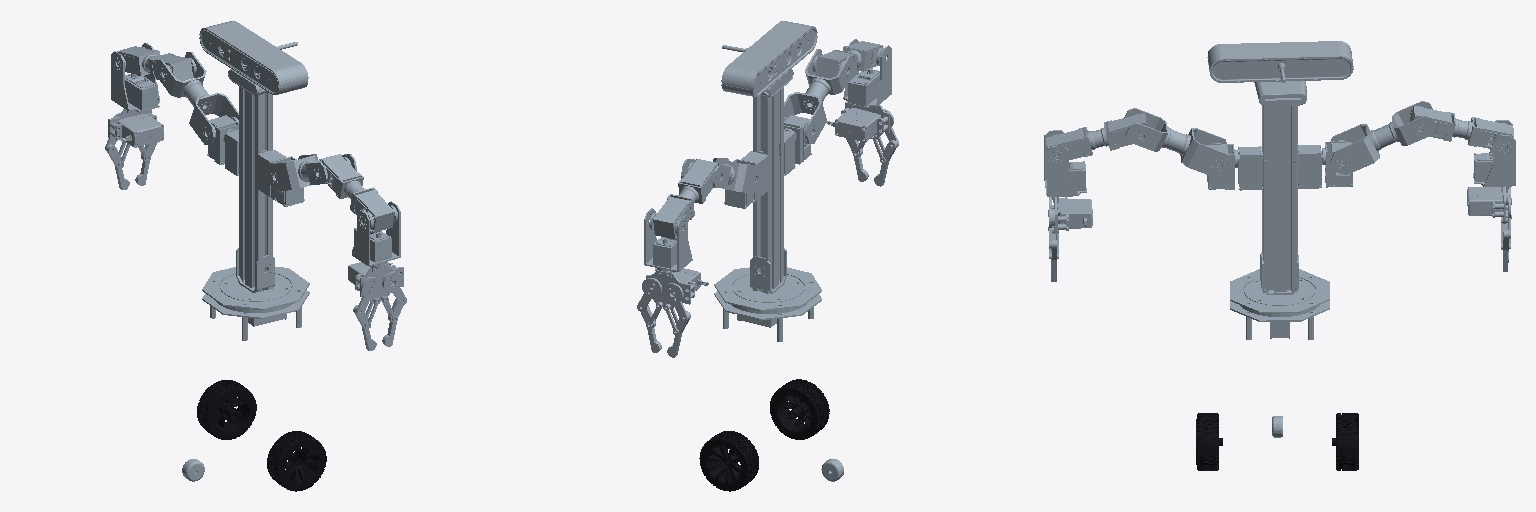
URDF robot description (robowheels):
<?xml version='1.0' encoding='utf-8'?>
<robot name="robowheels">
  <link name="base_footprint" />
  <joint name="base_footprint_joint" type="fixed">
    <parent link="base_footprint" />
    <child link="base_link" />
    <origin xyz="0 0 0.0332" />
  </joint>
  <link name="base_link">
    <visual>
      <geometry>
        <mesh filename="package://robowheels_description/meshes/base_link.stl" />
      </geometry>
      <material name="base_link_material">
        <color rgba="0.65 0.7 0.75 1" />
      </material>
    </visual>
    <inertial>
      <origin xyz="-0.0318259535 3.65871519e-05 0.0604680357" />
      <mass value="1.8" />
      <inertia ixx="0.00996234786066134" iyy="0.010731749977905014" izz="0.011715397882756337" ixy="0" ixz="0" iyz="0" />
    </inertial>
    <collision name="base_link_collision">
      <origin xyz="-0.0318259535 3.65871519e-05 0.0604680357" />
      <geometry>
        <box size="0.204 0.191014797 0.173" />
      </geometry>
    </collision>
  </link>
  <link name="mast_link">
    <visual>
      <geometry>
        <mesh filename="package://robowheels_description/meshes/mast_link.stl" />
      </geometry>
      <material name="mast_link_material">
        <color rgba="0.65 0.7 0.75 1" />
      </material>
    </visual>
    <inertial>
      <origin xyz="0 0 0" />
      <mass value="0.15" />
      <inertia ixx="0.0008022936571966947" iyy="0.0007874616086122587" izz="2.7255265808507982e-05" ixy="0" ixz="0" iyz="0" />
    </inertial>
    <collision name="mast_link_collision">
      <origin xyz="0 0 0" />
      <geometry>
        <box size="0.0222918974 0.041030386 0.25" />
      </geometry>
    </collision>
  </link>
  <joint name="mast_joint" type="fixed">
    <parent link="base_link" />
    <child link="mast_link" />
    <origin xyz="-0.00625268749 0.00269514236 0.315288035" />
  </joint>
  <link name="arm_mount_link">
    <visual>
      <geometry>
        <mesh filename="package://robowheels_description/meshes/arm_mount_link.stl" />
      </geometry>
      <material name="arm_mount_link_material">
        <color rgba="0.65 0.7 0.75 1" />
      </material>
    </visual>
    <inertial>
      <origin xyz="0 0 0" />
      <mass value="0.3" />
      <inertia ixx="0.000551753377151742" iyy="0.0005517533771518032" izz="0.0006540599493033816" ixy="0" ixz="0" iyz="0" />
    </inertial>
    <collision name="arm_mount_link_collision">
      <origin xyz="0 0 0" />
      <geometry>
        <box size="0.114373069 0.114373069 0.09481" />
      </geometry>
    </collision>
  </link>
  <joint name="arm_mount_joint" type="fixed">
    <parent link="base_link" />
    <child link="arm_mount_link" />
    <origin xyz="-0.00637300074 0.0023598377 0.186523035" />
  </joint>
  <link name="astra_link">
    <visual>
      <geometry>
        <mesh filename="package://robowheels_description/meshes/astra_link.stl" />
      </geometry>
      <material name="astra_link_material">
        <color rgba="0.65 0.7 0.75 1" />
      </material>
    </visual>
    <inertial>
      <origin xyz="0 0 0" />
      <mass value="0.3" />
      <inertia ixx="0.0007600693162909078" iyy="0.0002396586653657222" izz="0.000873908195797151" ixy="0" ixz="0" iyz="0" />
    </inertial>
    <collision name="astra_link_collision">
      <origin xyz="0 0 0" />
      <geometry>
        <box size="0.0840830001 0.166992146 0.0501636892" />
      </geometry>
    </collision>
  </link>
  <joint name="astra_joint" type="fixed">
    <parent link="base_link" />
    <child link="astra_link" />
    <origin xyz="0.00857200063 0.00332180294 0.46536978" />
  </joint>
  <link name="left_wheel_link">
    <visual>
      <geometry>
        <mesh filename="package://robowheels_description/meshes/left_wheel_link.stl" />
      </geometry>
      <material name="left_wheel_link_material">
        <color rgba="0.12 0.12 0.14 1" />
      </material>
    </visual>
    <inertial>
      <origin xyz="-3.6370024e-10 -0.000586149315 1.99372303e-10" />
      <mass value="0.08" />
      <inertia ixx="3.5456330816517186e-05" iyy="5.871981289641652e-05" izz="3.545633081652129e-05" ixy="0" ixz="0" iyz="0" />
    </inertial>
    <collision name="left_wheel_link_collision">
      <origin rpy="1.5707963267948966 0 0" />
      <geometry>
        <cylinder radius="0.0332" length="0.026" />
      </geometry>
    </collision>
  </link>
  <joint name="left_wheel_joint" type="continuous">
    <parent link="base_link" />
    <child link="left_wheel_link" />
    <origin xyz="0 0.0781561955 0" />
    <axis xyz="0 1 0" />
    <limit effort="2" velocity="20" />
    <dynamics damping="0.01" friction="0" />
  </joint>
  <link name="right_wheel_link">
    <visual>
      <geometry>
        <mesh filename="package://robowheels_description/meshes/right_wheel_link.stl" />
      </geometry>
      <material name="right_wheel_link_material">
        <color rgba="0.12 0.12 0.14 1" />
      </material>
    </visual>
    <inertial>
      <origin xyz="2.94291862e-10 0.000586141681 2.00216441e-10" />
      <mass value="0.08" />
      <inertia ixx="3.545633081652782e-05" iyy="5.8719812896417204e-05" izz="3.545633081652472e-05" ixy="0" ixz="0" iyz="0" />
    </inertial>
    <collision name="right_wheel_link_collision">
      <origin rpy="1.5707963267948966 0 0" />
      <geometry>
        <cylinder radius="0.0332" length="0.026" />
      </geometry>
    </collision>
  </link>
  <joint name="right_wheel_joint" type="continuous">
    <parent link="base_link" />
    <child link="right_wheel_link" />
    <origin xyz="0 -0.0781561955 0" />
    <axis xyz="0 1 0" />
    <limit effort="2" velocity="20" />
    <dynamics damping="0.01" friction="0" />
  </joint>
  <link name="caster_link">
    <visual>
      <geometry>
        <mesh filename="package://robowheels_description/meshes/caster_link.stl" />
      </geometry>
      <material name="caster_link_material">
        <color rgba="0.65 0.7 0.75 1" />
      </material>
    </visual>
    <inertial>
      <origin xyz="0 0 0" />
      <mass value="0.03" />
      <inertia ixx="1.9850315052214744e-06" iyy="3.125050003812256e-06" izz="1.985031508830174e-06" ixy="0" ixz="0" iyz="0" />
    </inertial>
    <collision name="caster_link_collision">
      <origin xyz="0 0 0.00183196408" />
      <geometry>
        <sphere radius="0.0125" />
      </geometry>
    </collision>
  </link>
  <joint name="caster_joint" type="fixed">
    <parent link="base_link" />
    <child link="caster_link" />
    <origin xyz="-0.0896517601 0.00013640945 -0.0225319641" />
  </joint>
  <ros2_control name="RoboWheelsVirtualHardware" type="system">
    <hardware>
      <plugin>mock_components/GenericSystem</plugin>
    </hardware>
    <joint name="right_shoulder_roll">
      <command_interface name="position">
        <param name="min">-0.65</param>
        <param name="max">0.65</param>
      </command_interface>
      <state_interface name="position">
        <param name="initial_value">0.0</param>
      </state_interface>
      <state_interface name="velocity" />
    </joint>
    <joint name="right_shoulder_pitch">
      <command_interface name="position">
        <param name="min">-0.65</param>
        <param name="max">0.65</param>
      </command_interface>
      <state_interface name="position">
        <param name="initial_value">0.0</param>
      </state_interface>
      <state_interface name="velocity" />
    </joint>
    <joint name="right_elbow_pitch">
      <command_interface name="position">
        <param name="min">-0.65</param>
        <param name="max">0.65</param>
      </command_interface>
      <state_interface name="position">
        <param name="initial_value">0.0</param>
      </state_interface>
      <state_interface name="velocity" />
    </joint>
    <joint name="right_wrist_pitch">
      <command_interface name="position">
        <param name="min">-0.65</param>
        <param name="max">0.65</param>
      </command_interface>
      <state_interface name="position">
        <param name="initial_value">0.0</param>
      </state_interface>
      <state_interface name="velocity" />
    </joint>
    <joint name="right_wrist_roll">
      <command_interface name="position">
        <param name="min">-0.65</param>
        <param name="max">0.65</param>
      </command_interface>
      <state_interface name="position">
        <param name="initial_value">0.0</param>
      </state_interface>
      <state_interface name="velocity" />
    </joint>
    <joint name="left_shoulder_roll">
      <command_interface name="position">
        <param name="min">-0.65</param>
        <param name="max">0.65</param>
      </command_interface>
      <state_interface name="position">
        <param name="initial_value">0.0</param>
      </state_interface>
      <state_interface name="velocity" />
    </joint>
    <joint name="left_shoulder_pitch">
      <command_interface name="position">
        <param name="min">-0.65</param>
        <param name="max">0.65</param>
      </command_interface>
      <state_interface name="position">
        <param name="initial_value">0.0</param>
      </state_interface>
      <state_interface name="velocity" />
    </joint>
    <joint name="left_elbow_pitch">
      <command_interface name="position">
        <param name="min">-0.65</param>
        <param name="max">0.65</param>
      </command_interface>
      <state_interface name="position">
        <param name="initial_value">0.0</param>
      </state_interface>
      <state_interface name="velocity" />
    </joint>
    <joint name="left_wrist_pitch">
      <command_interface name="position">
        <param name="min">-0.65</param>
        <param name="max">0.65</param>
      </command_interface>
      <state_interface name="position">
        <param name="initial_value">0.0</param>
      </state_interface>
      <state_interface name="velocity" />
    </joint>
    <joint name="left_wrist_roll">
      <command_interface name="position">
        <param name="min">-0.65</param>
        <param name="max">0.65</param>
      </command_interface>
      <state_interface name="position">
        <param name="initial_value">0.0</param>
      </state_interface>
      <state_interface name="velocity" />
    </joint>
  </ros2_control>
  <link name="shoulder_housings_link">
    <visual>
      <geometry>
        <mesh filename="package://robowheels_description/meshes/shoulder_housings_link.stl" />
      </geometry>
      <material name="arm_metal">
        <color rgba="0.65 0.7 0.75 1" />
      </material>
    </visual>
  </link>
  <joint name="shoulder_housings_joint" type="fixed">
    <parent link="base_link" />
    <child link="shoulder_housings_link" />
  </joint>
  <link name="right_shoulder_roll_link">
    <visual>
      <geometry>
        <mesh filename="package://robowheels_description/meshes/right_shoulder_roll_link.stl" />
      </geometry>
      <material name="arm_metal">
        <color rgba="0.65 0.7 0.75 1" />
      </material>
    </visual>
  </link>
  <joint name="right_shoulder_roll" type="revolute">
    <parent link="base_link" />
    <child link="right_shoulder_roll_link" />
    <origin xyz="-0.00404527099 -0.0303939237 0.355318694" />
    <axis xyz="0.061201029 -0.99812546 3.37191261e-16" />
    <limit lower="-0.65" upper="0.65" effort="1" velocity="0.5" />
  </joint>
  <link name="right_shoulder_pitch_link">
    <visual>
      <geometry>
        <mesh filename="package://robowheels_description/meshes/right_shoulder_pitch_link.stl" />
      </geometry>
      <material name="arm_metal">
        <color rgba="0.65 0.7 0.75 1" />
      </material>
    </visual>
  </link>
  <joint name="right_shoulder_pitch" type="revolute">
    <parent link="right_shoulder_roll_link" />
    <child link="right_shoulder_pitch_link" />
    <origin xyz="0.000573966997 -0.0378486861 0.00215" />
    <axis xyz="0.99812546 0.061201029 1.0501851e-15" />
    <limit lower="-0.65" upper="0.65" effort="1" velocity="0.5" />
  </joint>
  <link name="right_elbow_pitch_link">
    <visual>
      <geometry>
        <mesh filename="package://robowheels_description/meshes/right_elbow_pitch_link.stl" />
      </geometry>
      <material name="arm_metal">
        <color rgba="0.65 0.7 0.75 1" />
      </material>
    </visual>
  </link>
  <joint name="right_elbow_pitch" type="revolute">
    <parent link="right_shoulder_pitch_link" />
    <child link="right_elbow_pitch_link" />
    <origin xyz="0.0067650393 -0.0889259224 0.039696886" />
    <axis xyz="0.99812546 0.061201029 8.84169351e-16" />
    <limit lower="-0.65" upper="0.65" effort="1" velocity="0.5" />
  </joint>
  <link name="right_wrist_pitch_link">
    <visual>
      <geometry>
        <mesh filename="package://robowheels_description/meshes/right_wrist_pitch_link.stl" />
      </geometry>
      <material name="arm_metal">
        <color rgba="0.65 0.7 0.75 1" />
      </material>
    </visual>
  </link>
  <joint name="right_wrist_pitch" type="revolute">
    <parent link="right_elbow_pitch_link" />
    <child link="right_wrist_pitch_link" />
    <origin xyz="0.00583680844 -0.0951923064 -0.0236513015" />
    <axis xyz="0.99812546 0.061201029 -2.80380214e-14" />
    <limit lower="-0.65" upper="0.65" effort="1" velocity="0.5" />
  </joint>
  <link name="right_wrist_roll_link">
    <visual>
      <geometry>
        <mesh filename="package://robowheels_description/meshes/right_wrist_roll_link.stl" />
      </geometry>
      <material name="arm_metal">
        <color rgba="0.65 0.7 0.75 1" />
      </material>
    </visual>
  </link>
  <joint name="right_wrist_roll" type="revolute">
    <parent link="right_wrist_pitch_link" />
    <child link="right_wrist_roll_link" />
    <origin xyz="-0.00181614729 -0.00131862189 -0.0518787" />
    <axis xyz="-2.8286138e-15 3.33112125e-16 1" />
    <limit lower="-0.65" upper="0.65" effort="1" velocity="0.5" />
  </joint>
  <link name="left_shoulder_roll_link">
    <visual>
      <geometry>
        <mesh filename="package://robowheels_description/meshes/left_shoulder_roll_link.stl" />
      </geometry>
      <material name="arm_metal">
        <color rgba="0.65 0.7 0.75 1" />
      </material>
    </visual>
  </link>
  <joint name="left_shoulder_roll" type="revolute">
    <parent link="base_link" />
    <child link="left_shoulder_roll_link" />
    <origin xyz="-0.00810438462 0.0358060197 0.355318694" />
    <axis xyz="-0.061201029 0.99812546 -2.98199355e-16" />
    <limit lower="-0.65" upper="0.65" effort="1" velocity="0.5" />
  </joint>
  <link name="left_shoulder_pitch_link">
    <visual>
      <geometry>
        <mesh filename="package://robowheels_description/meshes/left_shoulder_pitch_link.stl" />
      </geometry>
      <material name="arm_metal">
        <color rgba="0.65 0.7 0.75 1" />
      </material>
    </visual>
  </link>
  <joint name="left_shoulder_pitch" type="revolute">
    <parent link="left_shoulder_roll_link" />
    <child link="left_shoulder_pitch_link" />
    <origin xyz="-0.000573966997 0.0378486861 0.00215" />
    <axis xyz="-0.99812546 -0.061201029 1.19454708e-15" />
    <limit lower="-0.65" upper="0.65" effort="1" velocity="0.5" />
  </joint>
  <link name="left_elbow_pitch_link">
    <visual>
      <geometry>
        <mesh filename="package://robowheels_description/meshes/left_elbow_pitch_link.stl" />
      </geometry>
      <material name="arm_metal">
        <color rgba="0.65 0.7 0.75 1" />
      </material>
    </visual>
  </link>
  <joint name="left_elbow_pitch" type="revolute">
    <parent link="left_shoulder_pitch_link" />
    <child link="left_elbow_pitch_link" />
    <origin xyz="-0.0067650393 0.0889259224 0.039696886" />
    <axis xyz="-0.99812546 -0.061201029 1.03148307e-15" />
    <limit lower="-0.65" upper="0.65" effort="1" velocity="0.5" />
  </joint>
  <link name="left_wrist_pitch_link">
    <visual>
      <geometry>
        <mesh filename="package://robowheels_description/meshes/left_wrist_pitch_link.stl" />
      </geometry>
      <material name="arm_metal">
        <color rgba="0.65 0.7 0.75 1" />
      </material>
    </visual>
  </link>
  <joint name="left_wrist_pitch" type="revolute">
    <parent link="left_elbow_pitch_link" />
    <child link="left_wrist_pitch_link" />
    <origin xyz="-0.00583680844 0.0951923064 -0.0236513015" />
    <axis xyz="-0.99812546 -0.061201029 -2.78862028e-14" />
    <limit lower="-0.65" upper="0.65" effort="1" velocity="0.5" />
  </joint>
  <link name="left_wrist_roll_link">
    <visual>
      <geometry>
        <mesh filename="package://robowheels_description/meshes/left_wrist_roll_link.stl" />
      </geometry>
      <material name="arm_metal">
        <color rgba="0.65 0.7 0.75 1" />
      </material>
    </visual>
  </link>
  <joint name="left_wrist_roll" type="revolute">
    <parent link="left_wrist_pitch_link" />
    <child link="left_wrist_roll_link" />
    <origin xyz="0.00181614729 0.00131862189 -0.0518787" />
    <axis xyz="2.92634406e-15 3.18843326e-16 1" />
    <limit lower="-0.65" upper="0.65" effort="1" velocity="0.5" />
  </joint>
  <ros2_control name="RoboWheelsBaseHardware" type="system">
    <hardware>
      <plugin>mock_components/GenericSystem</plugin>
      <param name="calculate_dynamics">true</param>
    </hardware>
    <joint name="left_wheel_joint">
      <command_interface name="velocity" />
      <state_interface name="position">
        <param name="initial_value">0.0</param>
      </state_interface>
      <state_interface name="velocity">
        <param name="initial_value">0.0</param>
      </state_interface>
    </joint>
    <joint name="right_wheel_joint">
      <command_interface name="velocity" />
      <state_interface name="position">
        <param name="initial_value">0.0</param>
      </state_interface>
      <state_interface name="velocity">
        <param name="initial_value">0.0</param>
      </state_interface>
    </joint>
  </ros2_control>
</robot>

--- Render facts (derived) ---
Views: 3 orthographic renders of the robot side by side, from view 1: azimuth 30°, elevation 25°; view 2: azimuth 150°, elevation 25°; view 3: azimuth 270°, elevation 25°.
Model robowheels with 19 links and 18 joints (10 revolute, 2 continuous, 6 fixed), rooted at base_footprint, posed all joints at 0.
Visible links, largest first — view 1: mast_link, arm_mount_link, astra_link, left_shoulder_pitch_link, right_wrist_roll_link, left_wheel_link, right_wheel_link, left_wrist_roll_link, right_shoulder_pitch_link, left_wrist_pitch_link, right_wrist_pitch_link, right_elbow_pitch_link (+4 smaller); view 2: arm_mount_link, mast_link, astra_link, left_wrist_roll_link, right_shoulder_pitch_link, right_wrist_roll_link, right_wheel_link, left_wheel_link, left_shoulder_pitch_link, left_wrist_pitch_link, right_wrist_pitch_link, left_elbow_pitch_link (+4 smaller); view 3: astra_link, mast_link, arm_mount_link, left_shoulder_pitch_link, right_shoulder_pitch_link, shoulder_housings_link, right_wrist_pitch_link, left_wrist_pitch_link, right_wrist_roll_link, left_wrist_roll_link, right_elbow_pitch_link, left_elbow_pitch_link (+4 smaller).
Boxes of the visible links, left/top/right/bottom form: mast_link: left=239, top=86, right=272, bottom=291; arm_mount_link: left=202, top=248, right=309, bottom=340; astra_link: left=199, top=21, right=308, bottom=95; left_shoulder_pitch_link: left=153, top=52, right=238, bottom=144; right_wrist_roll_link: left=348, top=262, right=406, bottom=350; left_wheel_link: left=197, top=380, right=256, bottom=439; right_wheel_link: left=267, top=431, right=326, bottom=491; left_wrist_roll_link: left=105, top=109, right=163, bottom=189; right_shoulder_pitch_link: left=267, top=154, right=360, bottom=192; left_wrist_pitch_link: left=111, top=43, right=159, bottom=112; right_wrist_pitch_link: left=352, top=201, right=400, bottom=266; right_elbow_pitch_link: left=336, top=173, right=397, bottom=232; arm_mount_link: left=714, top=248, right=821, bottom=341; mast_link: left=753, top=87, right=783, bottom=293; astra_link: left=721, top=21, right=817, bottom=96; left_wrist_roll_link: left=637, top=268, right=708, bottom=357; right_shoulder_pitch_link: left=784, top=49, right=854, bottom=143; right_wrist_roll_link: left=827, top=104, right=898, bottom=186; right_wheel_link: left=770, top=379, right=829, bottom=439; left_wheel_link: left=699, top=431, right=758, bottom=491; left_shoulder_pitch_link: left=681, top=158, right=761, bottom=196; left_wrist_pitch_link: left=644, top=208, right=692, bottom=271; right_wrist_pitch_link: left=843, top=39, right=891, bottom=107; left_elbow_pitch_link: left=649, top=178, right=705, bottom=238; astra_link: left=1207, top=41, right=1353, bottom=105; mast_link: left=1262, top=105, right=1297, bottom=292; arm_mount_link: left=1230, top=252, right=1329, bottom=339; left_shoulder_pitch_link: left=1330, top=101, right=1451, bottom=174; right_shoulder_pitch_link: left=1108, top=108, right=1231, bottom=177; shoulder_housings_link: left=1235, top=145, right=1325, bottom=190; right_wrist_pitch_link: left=1044, top=130, right=1086, bottom=196; left_wrist_pitch_link: left=1473, top=120, right=1515, bottom=186; right_wrist_roll_link: left=1048, top=197, right=1092, bottom=281; left_wrist_roll_link: left=1467, top=186, right=1511, bottom=271; right_elbow_pitch_link: left=1046, top=120, right=1118, bottom=161; left_elbow_pitch_link: left=1443, top=112, right=1513, bottom=151.
Bounding box of the posed robot: 0.153 × 0.5381 × 0.5255 m (x, y, z).
Meshes: 18 distinct files referenced, 17 mesh visuals loaded (17 binary STL); not drawn: 1 (reference not matched to a file when rendering).
